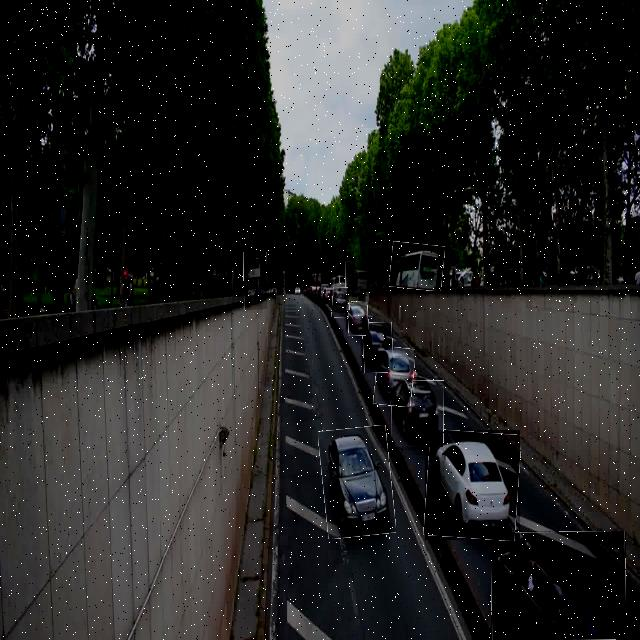Bus: (390, 243, 444, 290), (244, 252, 267, 310), (345, 261, 370, 293)
Car: (491, 531, 626, 640), (425, 430, 520, 540), (320, 426, 394, 538), (392, 380, 444, 447), (375, 347, 414, 407), (362, 323, 393, 373), (348, 302, 368, 336), (331, 288, 350, 318)
